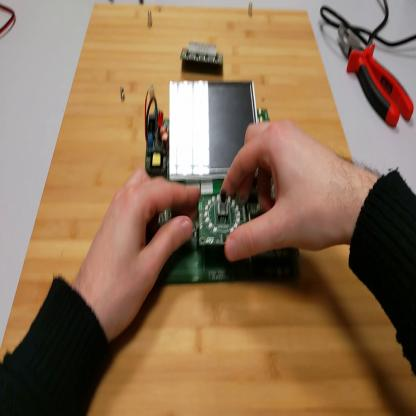hand: (80, 168, 199, 338), (217, 117, 352, 262)
low voltage board: (144, 73, 301, 291)
pliers: (339, 24, 413, 128)
working area: (1, 5, 416, 415)
